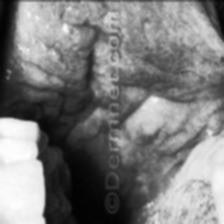Unclassified: (135, 11, 217, 169), (24, 0, 100, 102)
